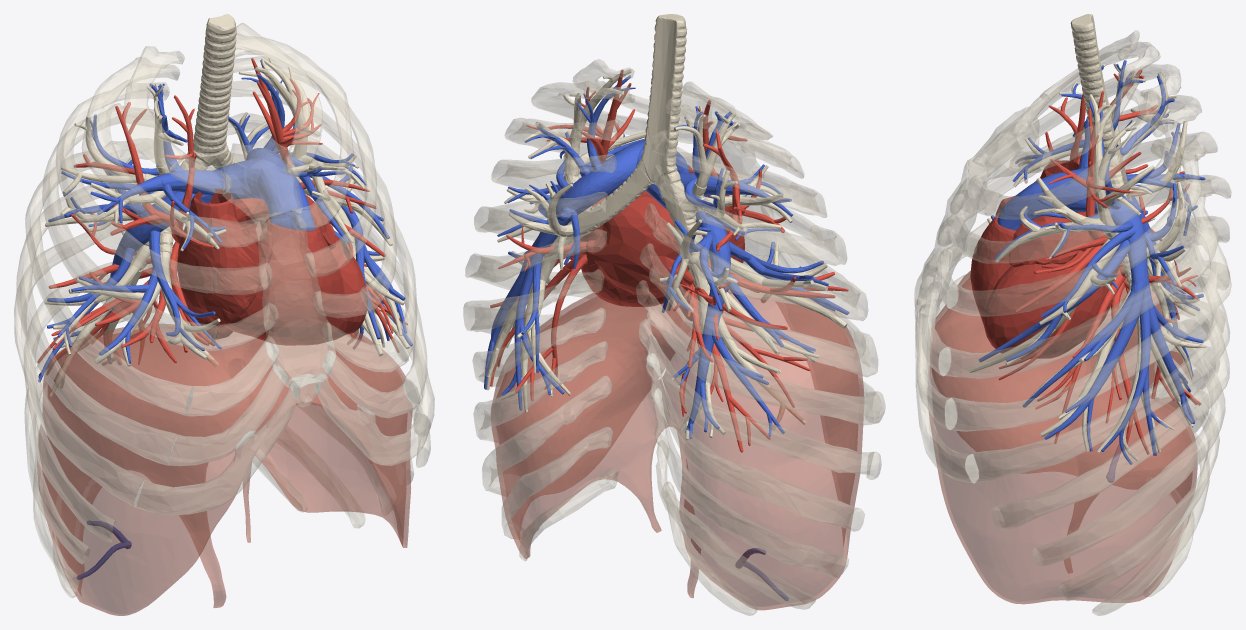
Rendered from lungs.glb.
The picture shows the model from 3 angles, left to right: view 1: azimuth 30°, elevation 25°; view 2: azimuth 150°, elevation 25°; view 3: azimuth 270°, elevation 25°; orthographic projection. The views are drawn at different scales.
Parts seen in each view (by area): view 1: ribs, diaphragm, heart, pulmart, airway, pulmvein; view 2: ribs, diaphragm, airway, pulmart, pulmvein, heart; view 3: ribs, diaphragm, pulmart, airway, heart, pulmvein.
Part boxes in pixels (x1,y1,x2,y2): ribs: (14,23,434,597); diaphragm: (37,324,412,615); heart: (177,188,367,345); pulmart: (38,60,412,579); airway: (44,14,409,396); pulmvein: (37,58,407,381); ribs: (463,59,885,615); diaphragm: (491,286,864,610); airway: (486,14,847,440); pulmart: (484,75,849,600); pulmvein: (490,69,848,452); heart: (579,165,744,321); ribs: (914,30,1231,615); diaphragm: (929,271,1197,604); pulmart: (979,60,1205,482); airway: (968,14,1206,461); heart: (970,160,1122,358); pulmvein: (998,69,1201,454).
Size of the model in its own units: 0.2732 by 0.4096 by 0.2102.
